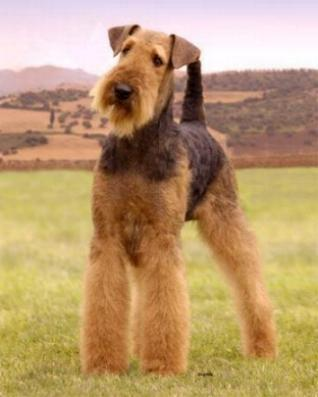wire-haired_fox_terrier: (78, 22, 282, 380)
